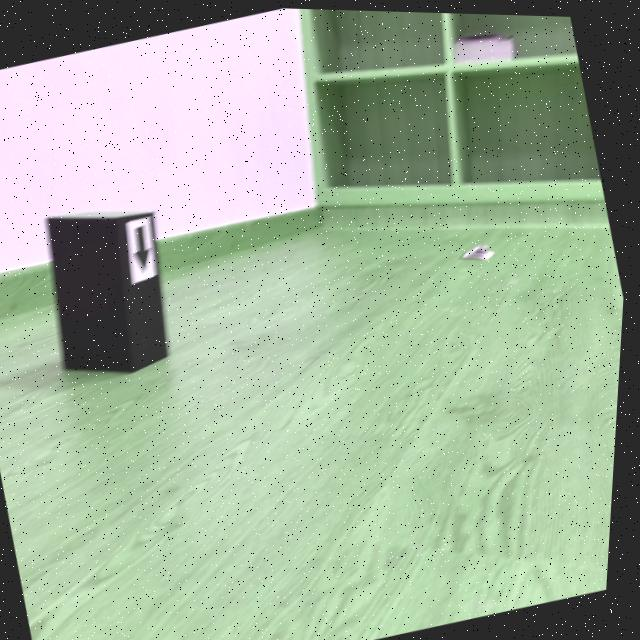DOWN: (135, 225, 153, 269)
